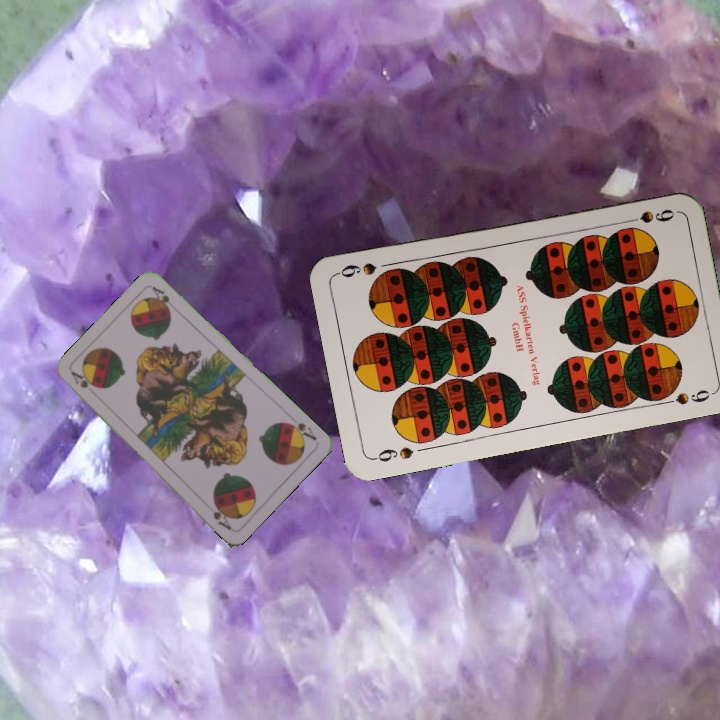S9: (619, 205, 678, 227), (369, 442, 416, 464)
SA: (282, 418, 319, 444), (67, 367, 91, 391)
